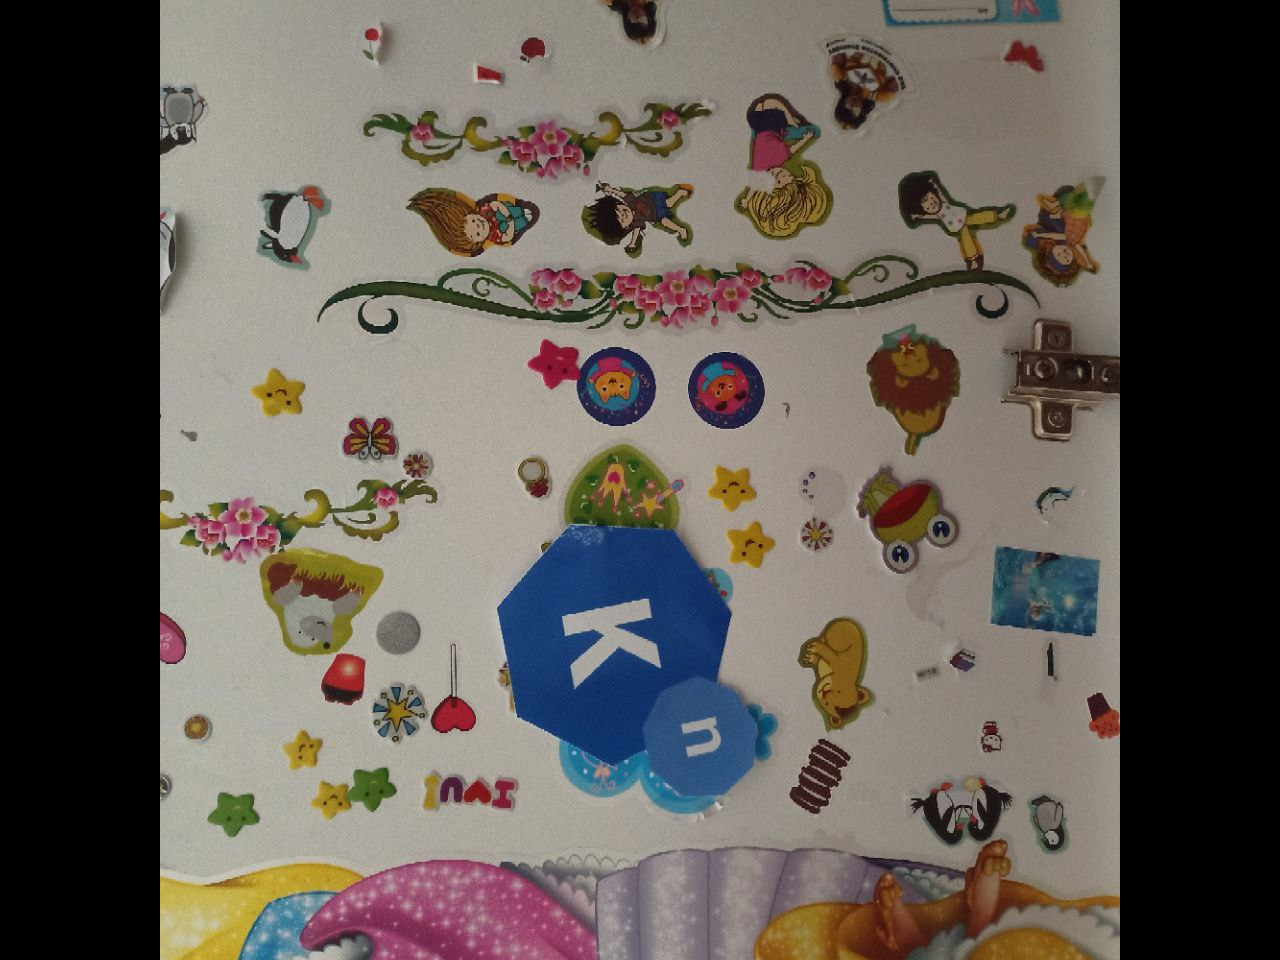knative: (496, 525, 760, 800)
